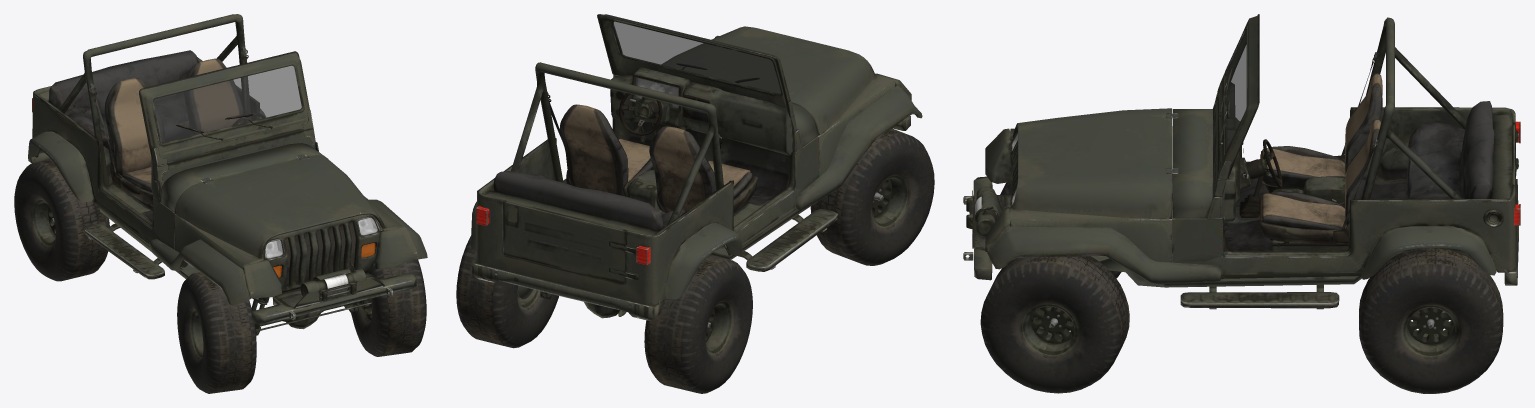
The model's file is ranglao.glb.
3 views of the same model, side by side, from view 1: azimuth 30°, elevation 25°; view 2: azimuth 150°, elevation 25°; view 3: azimuth 270°, elevation 25° (orthographic). The views are drawn at different scales.
Visible parts, largest first — view 1: 2_low_Plane.050, 4_low_Plane.052, 6_low.001_Plane.006, 7_low.002_Plane.016, 1_low_Plane.077, 6_low.004_Plane.015, glass_Cube.026, 5_low_Plane.065, 2_low.001_Plane.002, 6_low.003_Plane.022, 6_low_Plane.061, 3_low_Plane.003 (+7 smaller); view 2: 1_low_Plane.077, 4_low_Plane.052, 6_low.001_Plane.006, 2_low_Plane.050, 6_low.004_Plane.015, 7_low.002_Plane.016, 2_low.001_Plane.002, glass_Cube.026, 5_low_Plane.065, 6_low_Plane.061, 3_low_Plane.003, 4_low.002_Plane.013 (+3 smaller); view 3: 1_low_Plane.077, 4_low_Plane.052, 6_low.001_Plane.006, 6_low.003_Plane.022, 2_low_Plane.050, 7_low.002_Plane.016, 2_low.001_Plane.002, 5_low_Plane.065, 3_low.001_Plane.012, 4_low.002_Plane.013, 3_low_Plane.003, 1_low.001_Plane.011 (+3 smaller).
Boxes of the visible parts, x1,y1,x2,y2 form: 2_low_Plane.050: [59, 14, 382, 292]; 4_low_Plane.052: [39, 126, 385, 296]; 6_low.001_Plane.006: [14, 158, 359, 335]; 7_low.002_Plane.016: [89, 47, 248, 210]; 1_low_Plane.077: [32, 57, 315, 249]; 6_low.004_Plane.015: [177, 272, 256, 393]; glass_Cube.026: [153, 65, 301, 142]; 5_low_Plane.065: [48, 50, 356, 301]; 2_low.001_Plane.002: [28, 109, 427, 305]; 6_low.003_Plane.022: [351, 258, 426, 356]; 6_low_Plane.061: [28, 151, 416, 324]; 3_low_Plane.003: [151, 63, 384, 308]; 1_low_Plane.077: [476, 75, 819, 304]; 4_low_Plane.052: [610, 26, 875, 248]; 6_low.001_Plane.006: [456, 235, 752, 393]; 2_low_Plane.050: [503, 14, 818, 283]; 6_low.004_Plane.015: [810, 128, 934, 265]; 7_low.002_Plane.016: [547, 92, 757, 213]; 2_low.001_Plane.002: [471, 86, 922, 299]; glass_Cube.026: [613, 21, 780, 107]; 5_low_Plane.065: [493, 171, 816, 259]; 6_low_Plane.061: [472, 115, 910, 320]; 3_low_Plane.003: [507, 19, 782, 222]; 4_low.002_Plane.013: [746, 209, 837, 271]; 1_low_Plane.077: [1172, 96, 1516, 278]; 4_low_Plane.052: [975, 82, 1466, 262]; 6_low.001_Plane.006: [1359, 248, 1503, 393]; 6_low.003_Plane.022: [980, 256, 1129, 393]; 2_low_Plane.050: [1011, 14, 1514, 247]; 7_low.002_Plane.016: [1260, 52, 1382, 247]; 2_low.001_Plane.002: [987, 173, 1496, 284]; 5_low_Plane.065: [966, 101, 1494, 287]; 3_low.001_Plane.012: [1010, 128, 1171, 262]; 4_low.002_Plane.013: [1180, 292, 1339, 308]; 3_low_Plane.003: [972, 25, 1516, 248]; 1_low.001_Plane.011: [985, 128, 1012, 251].
Bounding box in the file's own units: 237 × 236 × 426.
Materials: 2 (2 with a texture image).
